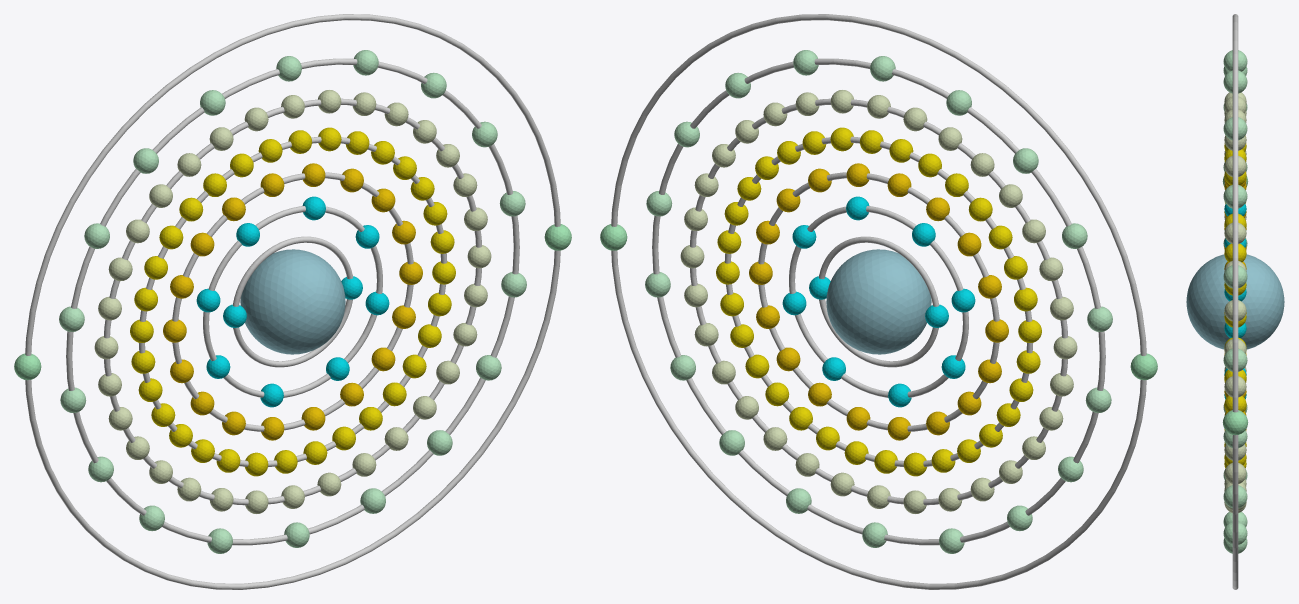
3 views of the same model, side by side, from view 1: azimuth 30°, elevation 25°; view 2: azimuth 150°, elevation 25°; view 3: azimuth 270°, elevation 25° (orthographic). The views are drawn at different scales.
Parts seen in each view (by area): view 1: world; view 2: world; view 3: world.
Boxes of the visible parts, bbox=[...] form: world: bbox=[14, 14, 571, 589]; world: bbox=[600, 14, 1157, 589]; world: bbox=[1186, 14, 1284, 589].
Bounding box in the file's own units: 2.67 × 2.59 × 0.44.
